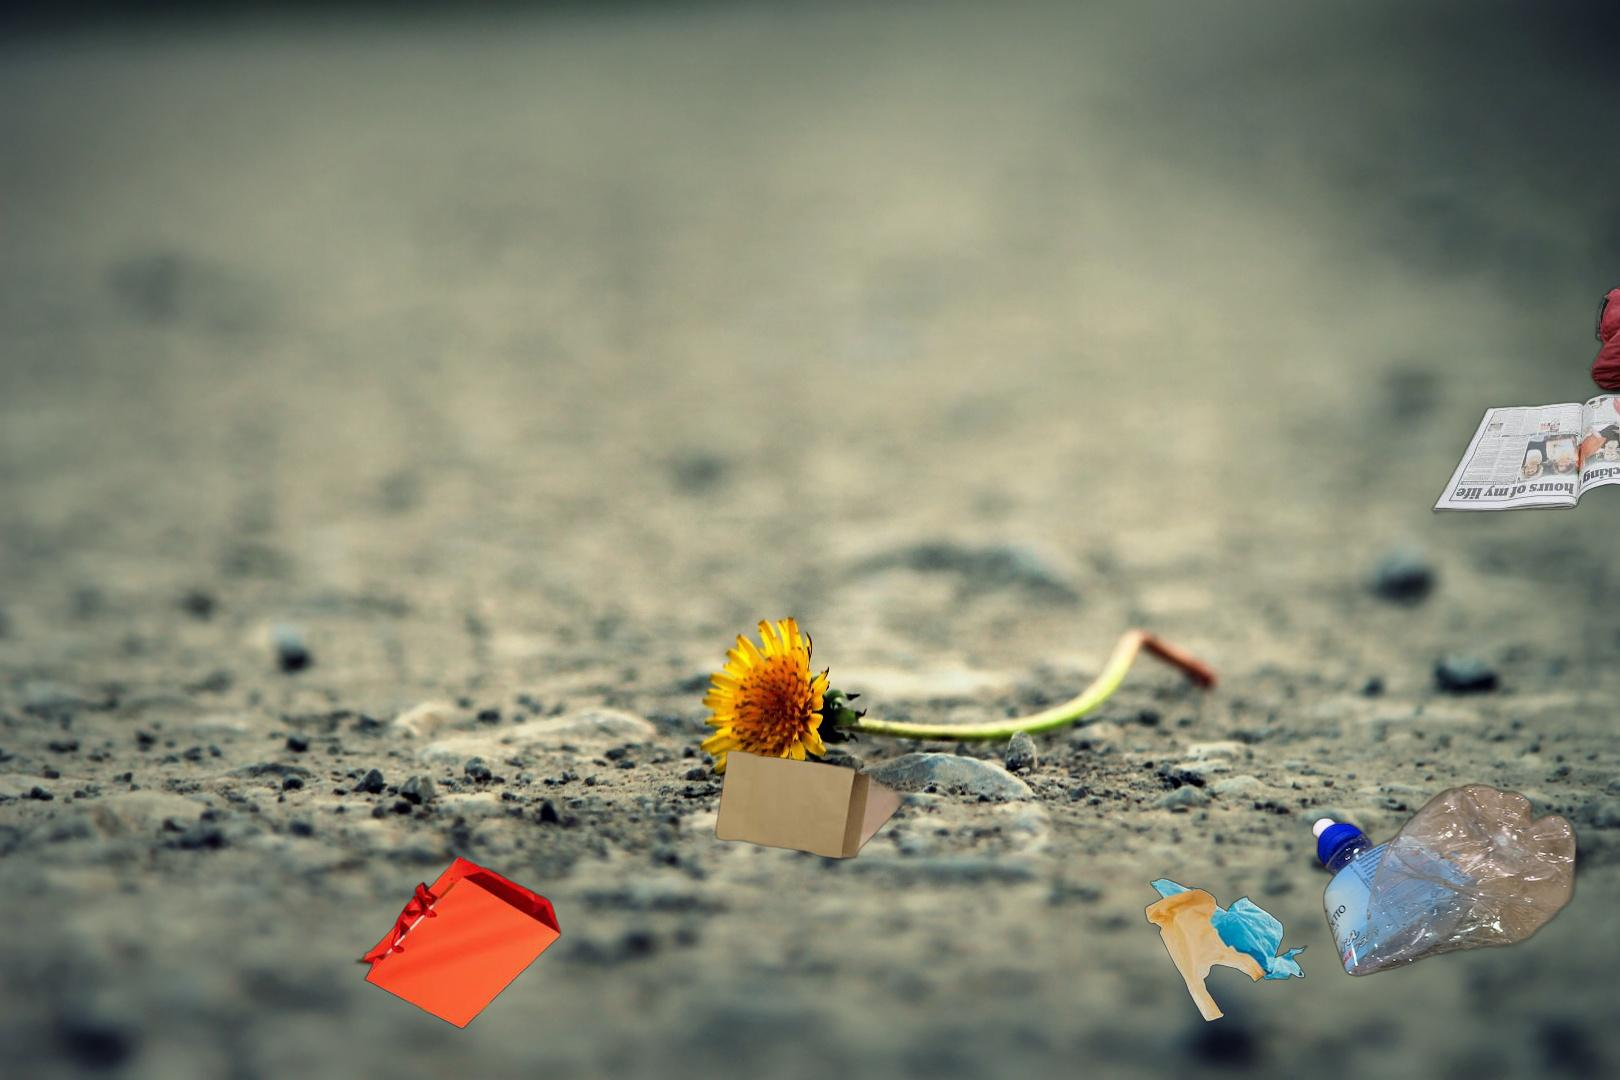paper-bag: (337, 855, 562, 1031), (714, 703, 938, 862)
plastic-bag: (1141, 877, 1310, 1029)
plastic-bottles: (1308, 780, 1581, 1080)
trashbox-cardboard: (1427, 257, 1620, 539)
